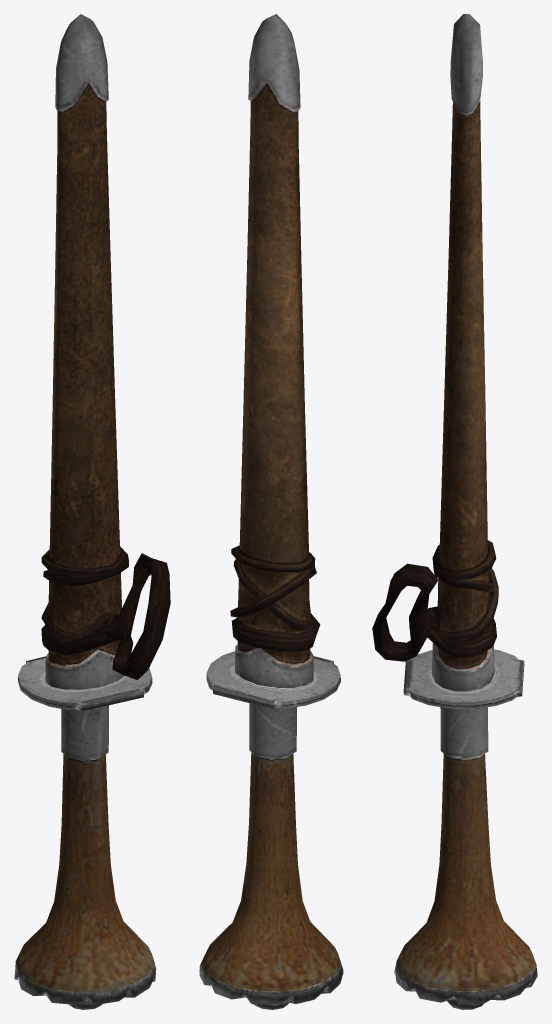
The model's file is sou029.obj.
The picture shows the model from 3 angles, left to right: view 1: azimuth 30°, elevation 25°; view 2: azimuth 150°, elevation 25°; view 3: azimuth 270°, elevation 25°; orthographic projection.
Visible parts, largest first — view 1: sou029_001_LOD_1, sou029_000_LOD_1; view 2: sou029_001_LOD_1, sou029_000_LOD_1; view 3: sou029_001_LOD_1, sou029_000_LOD_1.
Part boxes in pixels (x1,y1,x2,y2): sou029_001_LOD_1: (41, 14, 170, 689); sou029_000_LOD_1: (14, 656, 156, 1009); sou029_001_LOD_1: (230, 14, 320, 687); sou029_000_LOD_1: (199, 651, 343, 1009); sou029_001_LOD_1: (372, 14, 498, 691); sou029_000_LOD_1: (394, 649, 537, 1009).
Size of the model in its own units: 7.4 by 56.95 by 8.59.
